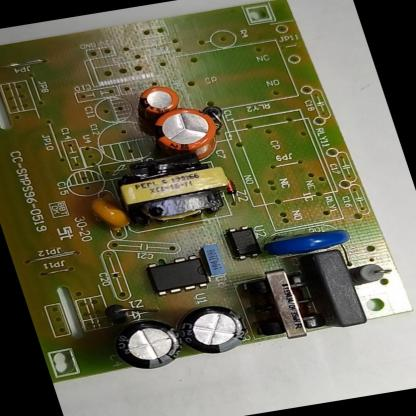Cap1: (142, 102, 226, 163)
Cap2: (128, 82, 184, 118)
Cap3: (170, 301, 255, 361)
Cap4: (103, 312, 190, 374)
MOSFET: (137, 250, 215, 298)
Mov: (254, 222, 355, 260)
Resistor: (348, 260, 396, 289)
Transformer: (107, 153, 243, 233), (230, 262, 332, 346)
